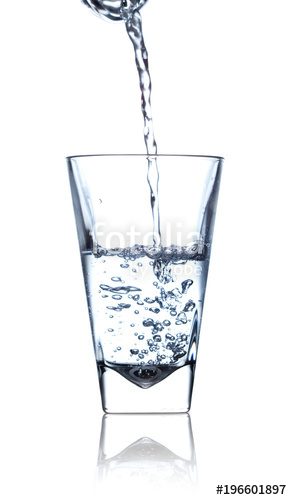glass of water: (60, 130, 229, 436)
